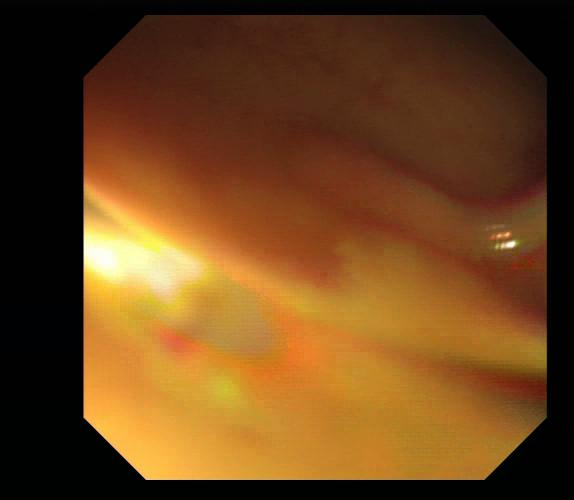polyp: (296, 127, 464, 249)
